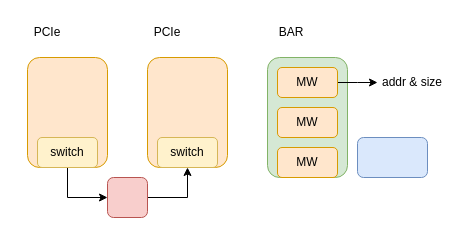
This 464x235 diagram has some shape labels left out. The centre of each missing label's shape, as x and y in pixels:
DMA: pixel 392 157
NTB: pixel 127 197
